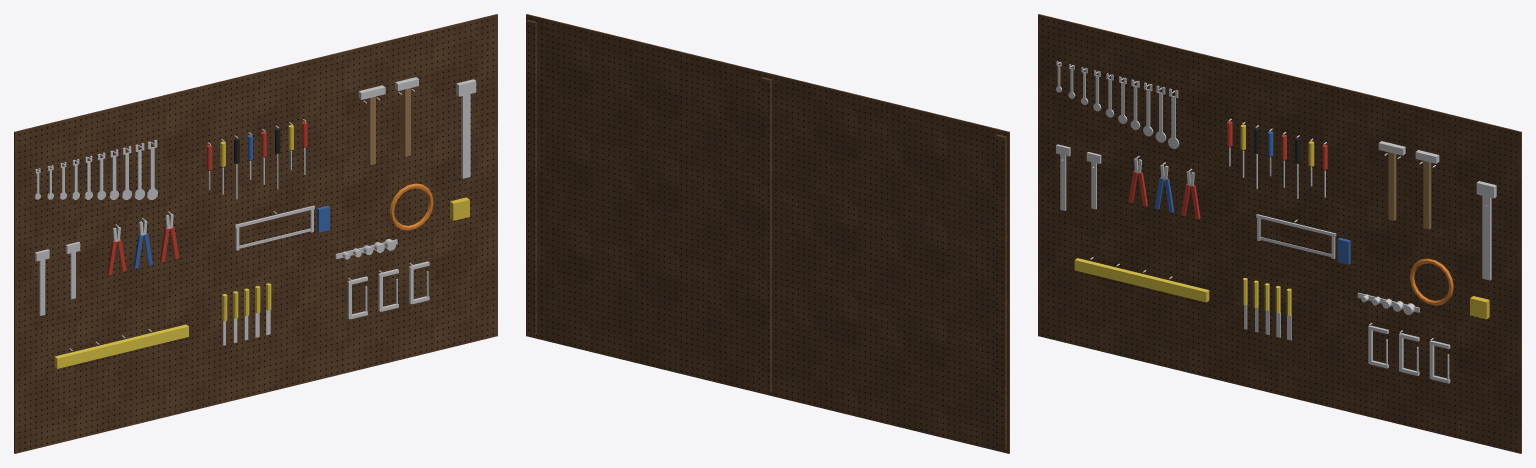
The model's file is pegboard-tools.glb.
The picture shows the model from 3 angles, left to right: view 1: azimuth 30°, elevation 25°; view 2: azimuth 150°, elevation 25°; view 3: azimuth 330°, elevation 25°; orthographic projection.
Parts seen in each view (by area): view 1: pegboard; view 2: pegboard; view 3: pegboard.
Part boxes in pixels (<box>): pegboard: <box>14,14,497,453</box>; pegboard: <box>526,14,1009,453</box>; pegboard: <box>1038,14,1521,453</box>.
Size of the model in its own units: 2.2 by 1.4 by 0.05.
Materials: 3 (1 with a texture image).
